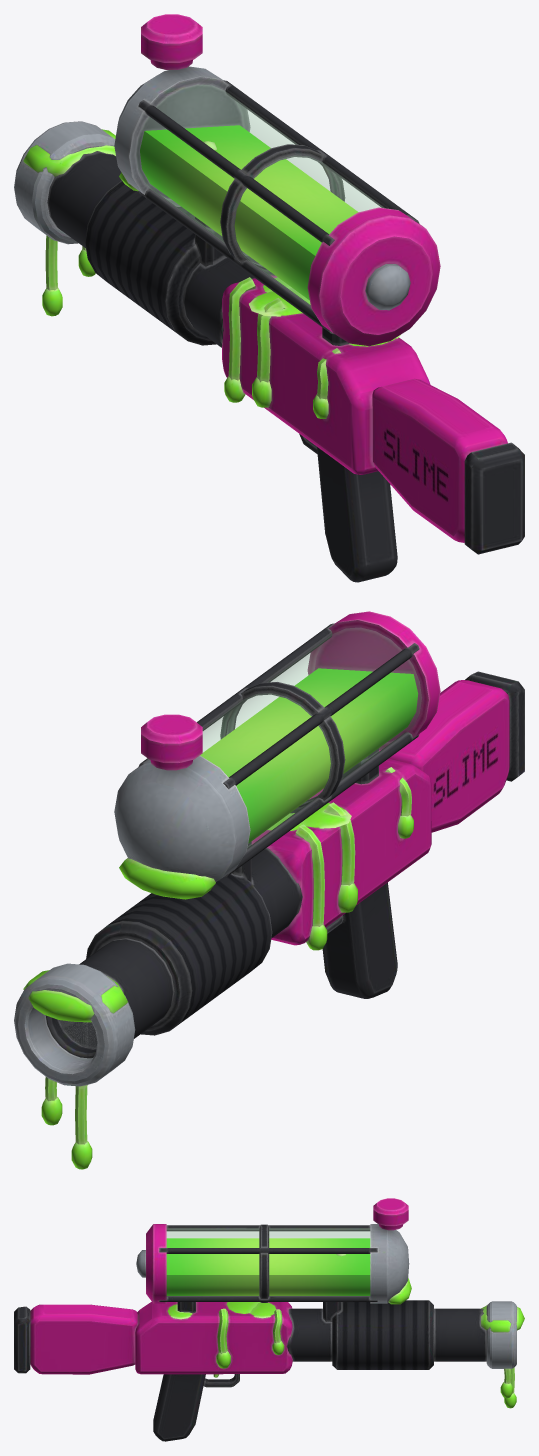
The model's file is gl_sticky.glb.
3 renders of one model, top to bottom at view 1: azimuth 30°, elevation 25°; view 2: azimuth 150°, elevation 25°; view 3: azimuth 270°, elevation 25°, orthographic. The views are drawn at different scales.
Visible parts, largest first — view 1: gl_sticky; view 2: gl_sticky; view 3: gl_sticky.
Part boxes in pixels (left/top/right/bottom): gl_sticky: left=14, top=14, right=524, bottom=582; gl_sticky: left=14, top=611, right=524, bottom=1169; gl_sticky: left=14, top=1198, right=524, bottom=1441.
Bounding box in the file's own units: 0.132 × 0.4244 × 0.843.
9 materials, 8 textured.
